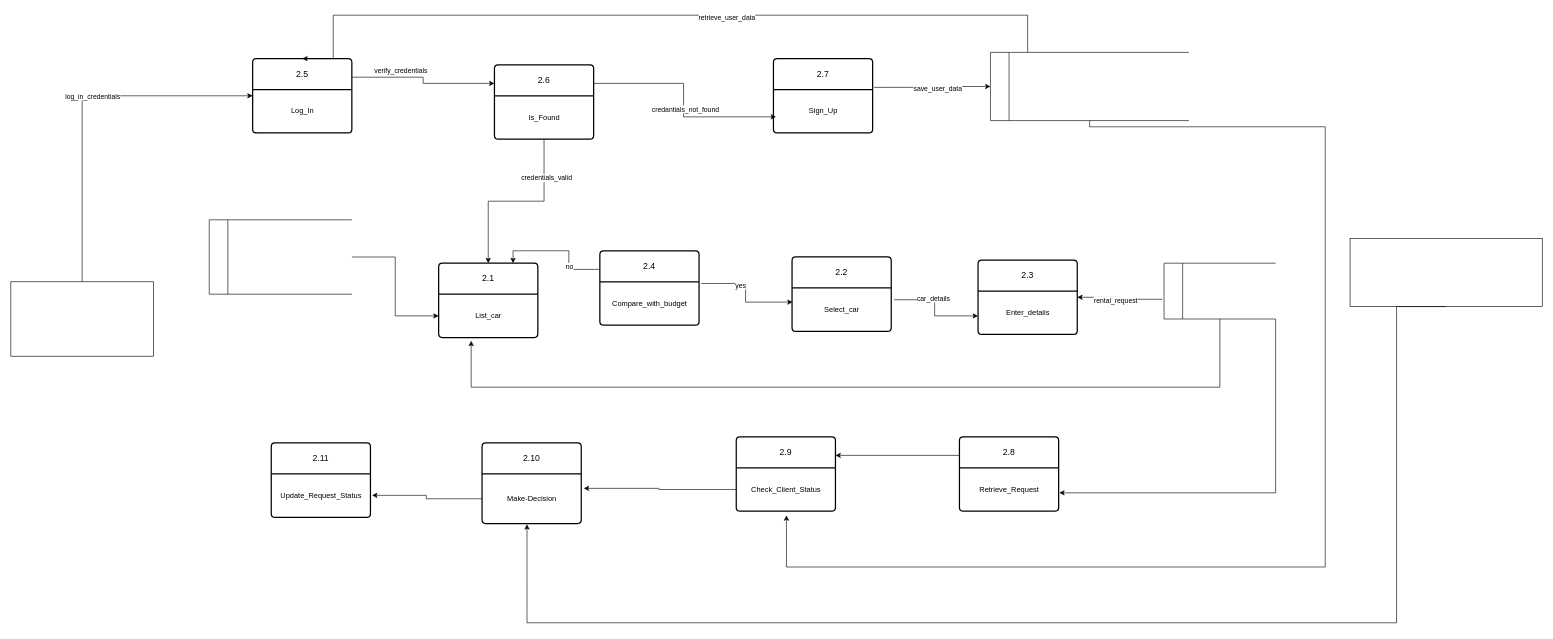
The diagram is 1553 pixels wide and 639 high, and some of its shapes have lost their labels. Here are the shapes that lost their labels. From the top down, the centre of each, then its label:
At (1089,86): "Ciients".
At (280,256): "Avaliable_ car".
At (1445,272): "Admin".
At (1219,291): "Requests".
At (81,318): "Client".
